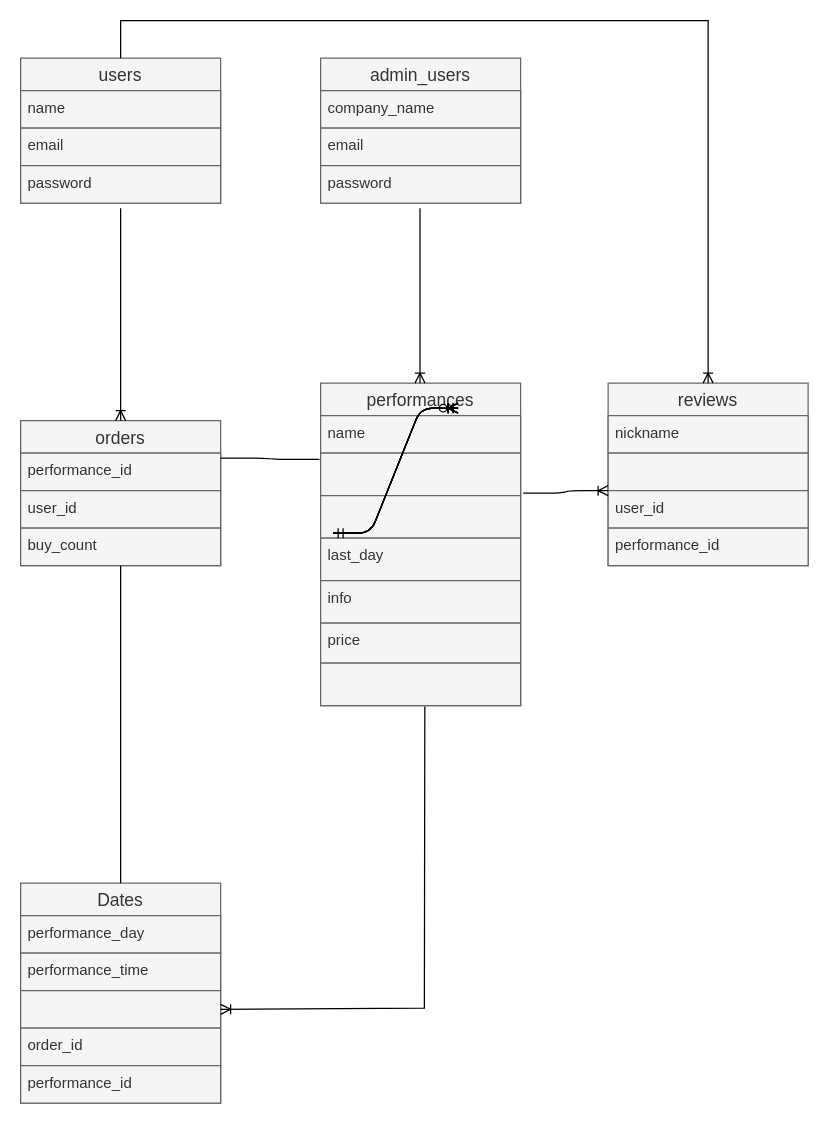
Image size: 829x1124. Some labels were removed from this diagram. Each missing label, with the centre of its shape:
"admin_user_id" goes at point 420,684.
"start_day" goes at point 420,516.
"stock" goes at point 120,1008.
"text" goes at point 707,471.
"theater" goes at point 420,474.
